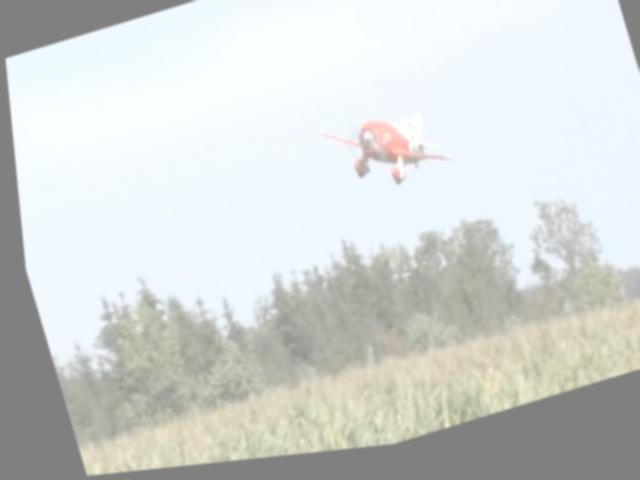uav: (307, 92, 460, 209)
